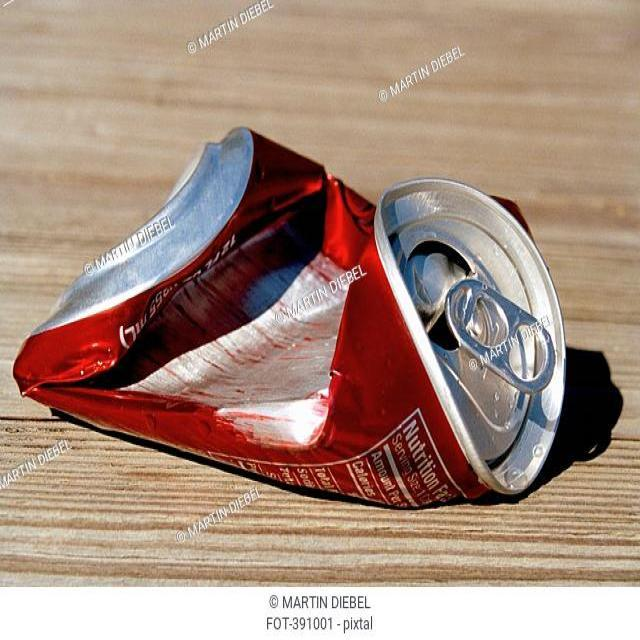can: (11, 72, 600, 549)
